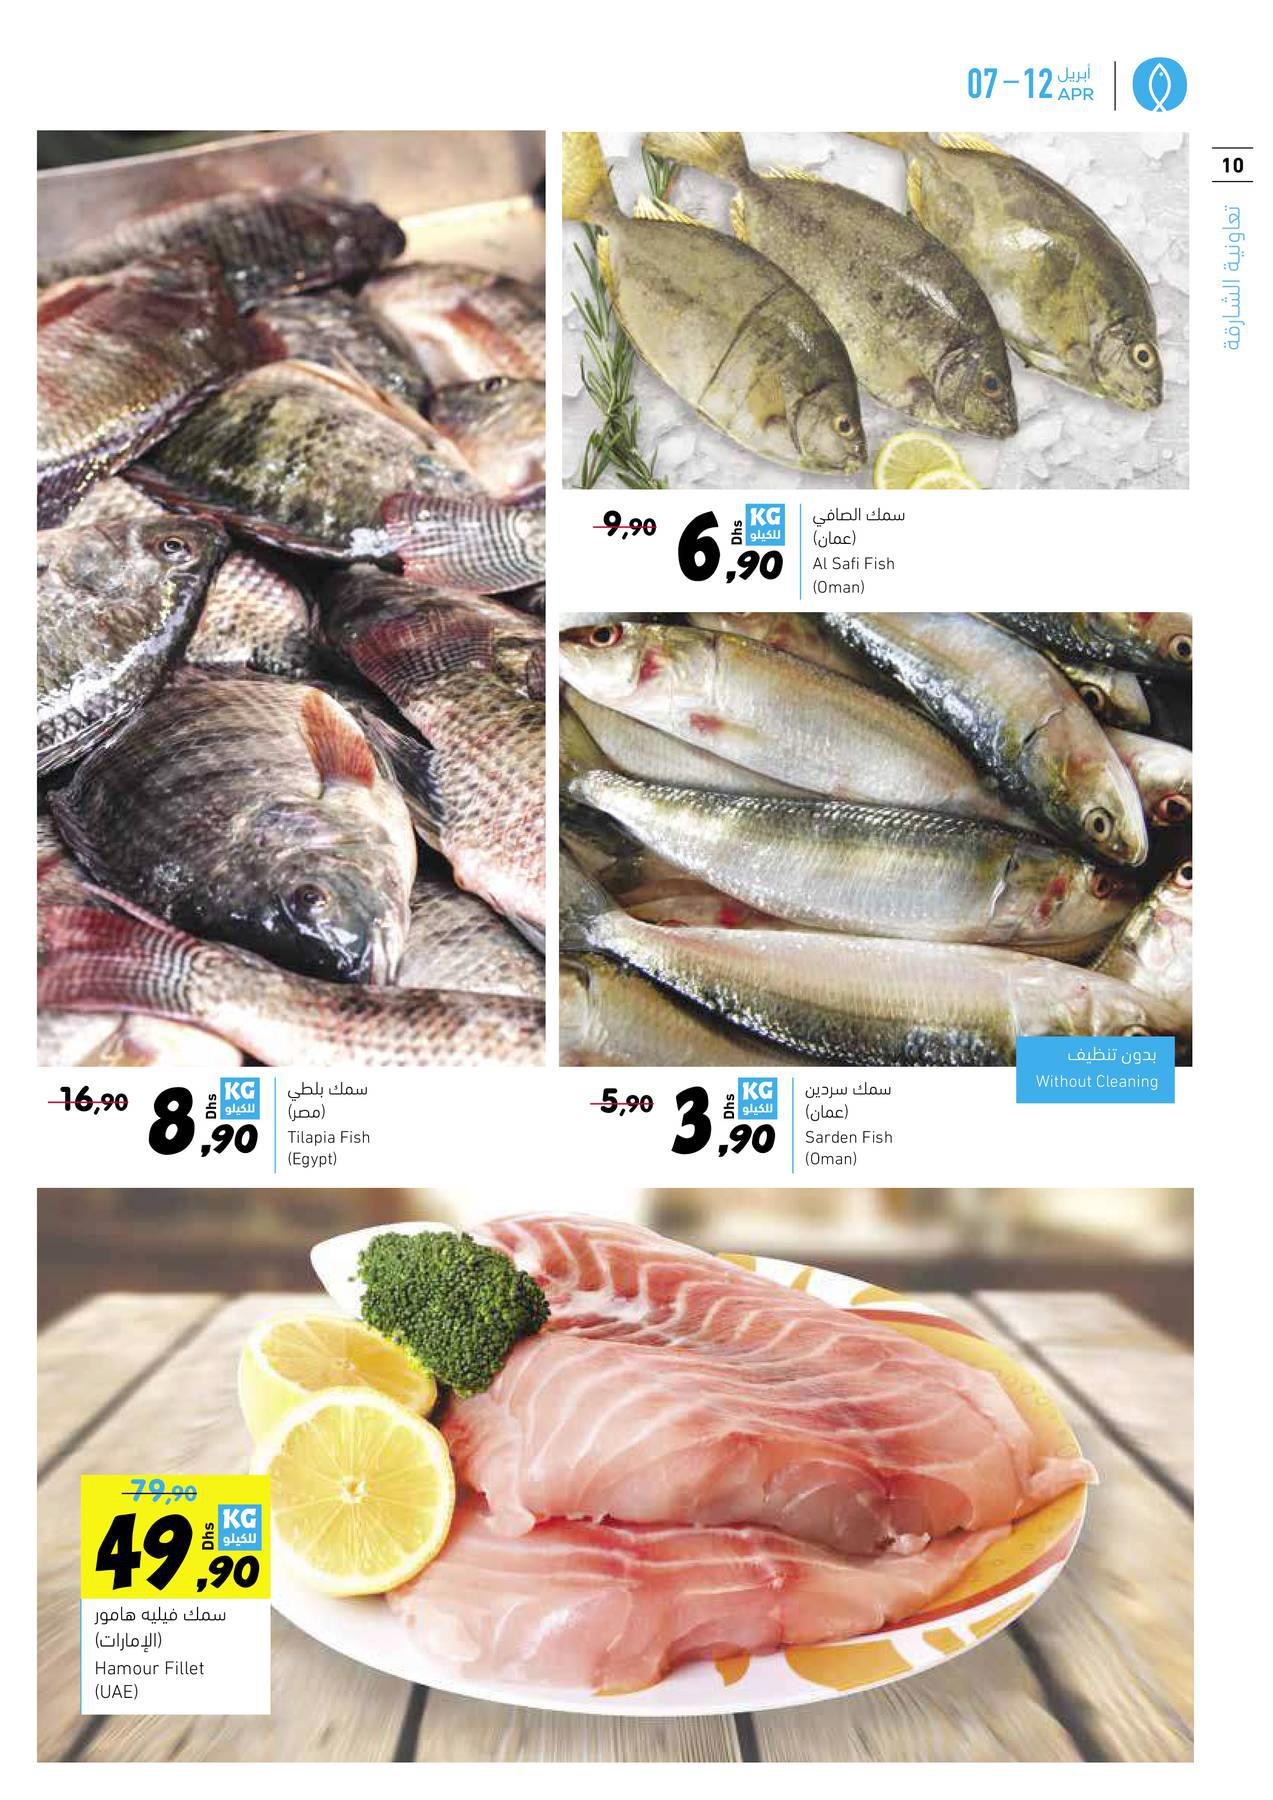text: (83, 1600, 234, 1709), (807, 500, 922, 605), (280, 1074, 387, 1178), (800, 1077, 907, 1173)
